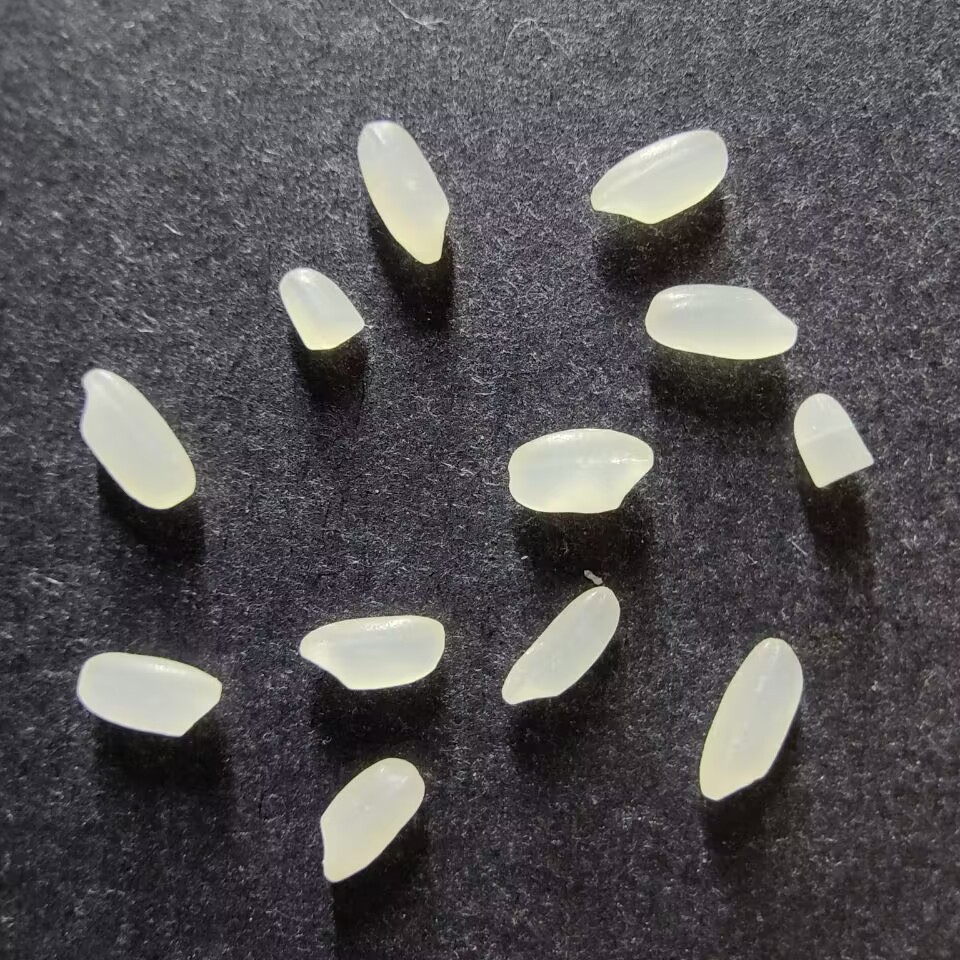broken: (792, 393, 875, 489), (278, 267, 363, 351)
rice: (698, 636, 803, 801), (78, 368, 195, 509), (500, 584, 621, 705), (318, 757, 424, 883), (356, 121, 449, 264), (589, 129, 727, 224), (507, 427, 654, 514), (76, 652, 220, 738), (644, 283, 798, 361), (298, 614, 445, 691)
